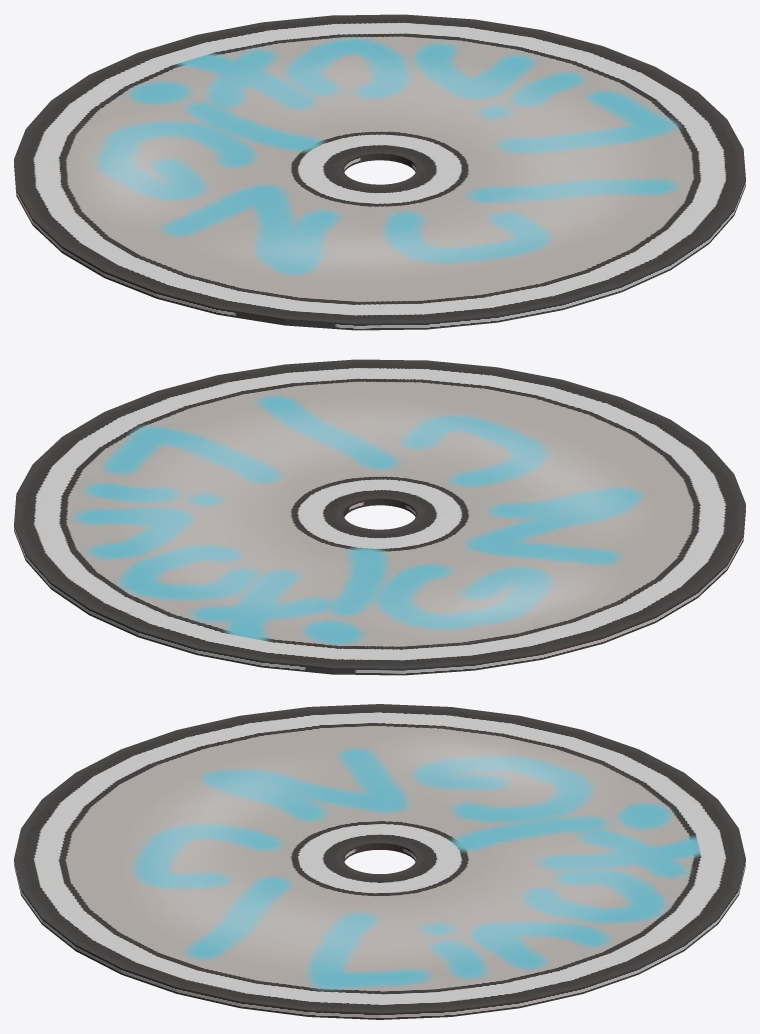
Rendered from gelatostation_disc.glb.
3 renders of one model, top to bottom at view 1: azimuth 30°, elevation 25°; view 2: azimuth 150°, elevation 25°; view 3: azimuth 270°, elevation 25°, orthographic.
Visible parts, largest first — view 1: Gelatostation_Disc; view 2: Gelatostation_Disc; view 3: Gelatostation_Disc.
Part boxes in pixels (x1=…): Gelatostation_Disc: x1=14, y1=14, x2=745, y2=330; Gelatostation_Disc: x1=14, y1=359, x2=745, y2=675; Gelatostation_Disc: x1=14, y1=704, x2=745, y2=1019.
Bounding box in the file's own units: 0.12 × 0.0012 × 0.12.
Materials: 1 (1 with a texture image).
